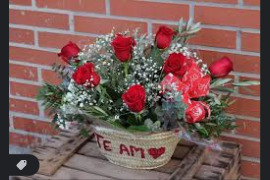RedRose: (122, 83, 150, 120), (109, 33, 137, 64)
